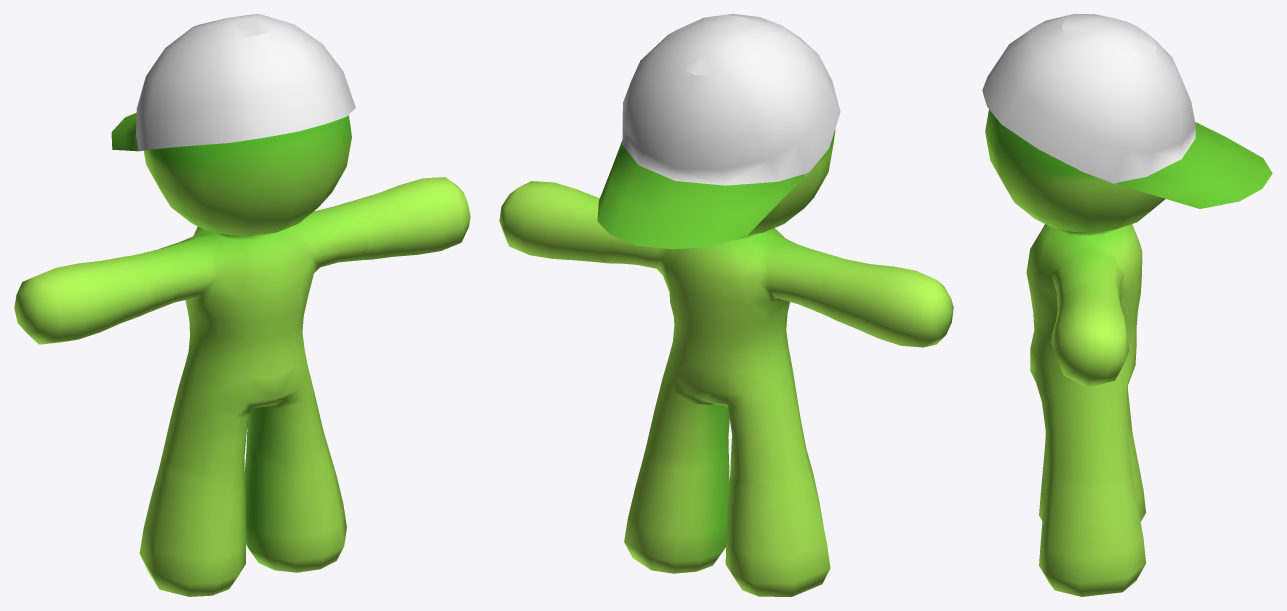
File: Model_Stickman_Green.fbx
3 renders of one model, left to right at view 1: azimuth 30°, elevation 25°; view 2: azimuth 150°, elevation 25°; view 3: azimuth 270°, elevation 25°, orthographic. The views are drawn at different scales.
Visible parts, largest first — view 1: Model_Stickman_Green; view 2: Model_Stickman_Green; view 3: Model_Stickman_Green.
Part boxes in pixels (left/top/right/bottom): Model_Stickman_Green: left=14, top=14, right=470, bottom=596; Model_Stickman_Green: left=499, top=14, right=953, bottom=596; Model_Stickman_Green: left=982, top=14, right=1272, bottom=596.
Bounding box in the file's own units: 218 × 258 × 127.
